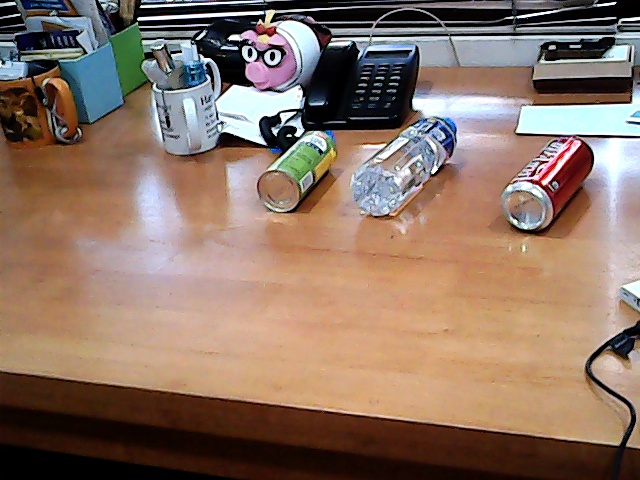Cola: (482, 110, 609, 245)
Pine Juice: (245, 114, 340, 222)
Summit Water: (341, 99, 467, 232)
